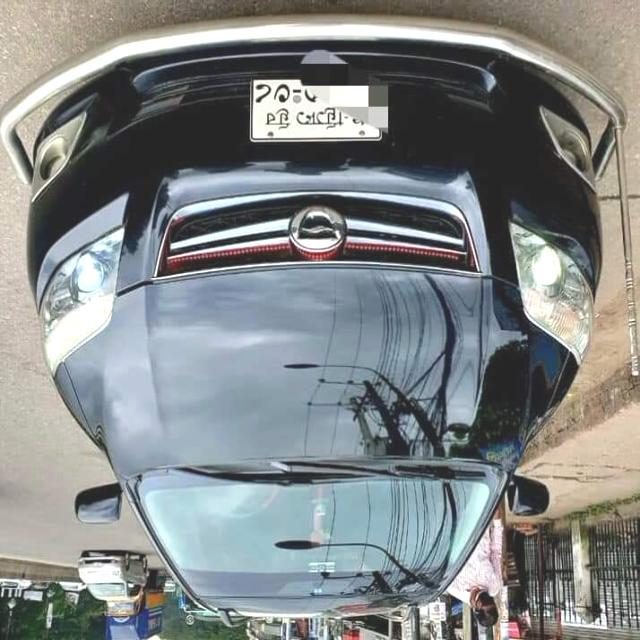black: (13, 1, 640, 599)
silver: (64, 544, 151, 617)
